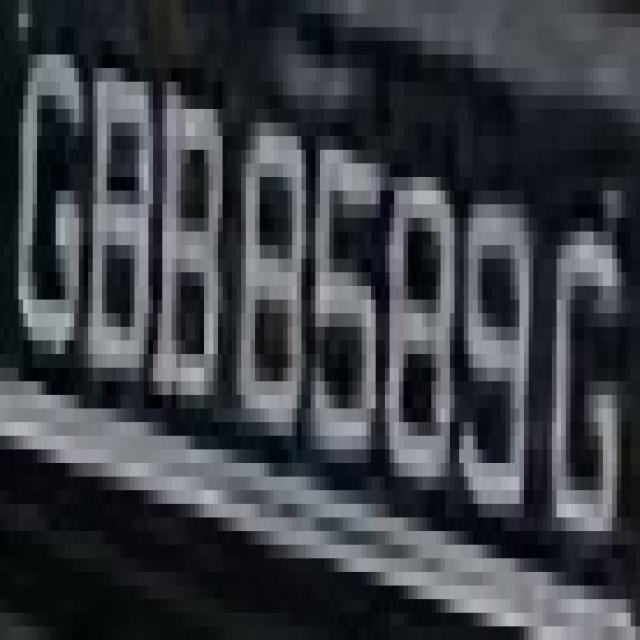5: (292, 109, 385, 490)
8: (228, 96, 316, 450), (390, 109, 459, 545)
9: (450, 164, 542, 558)
B: (144, 82, 232, 449), (88, 41, 162, 422)
G: (538, 150, 631, 572), (14, 0, 88, 395)
